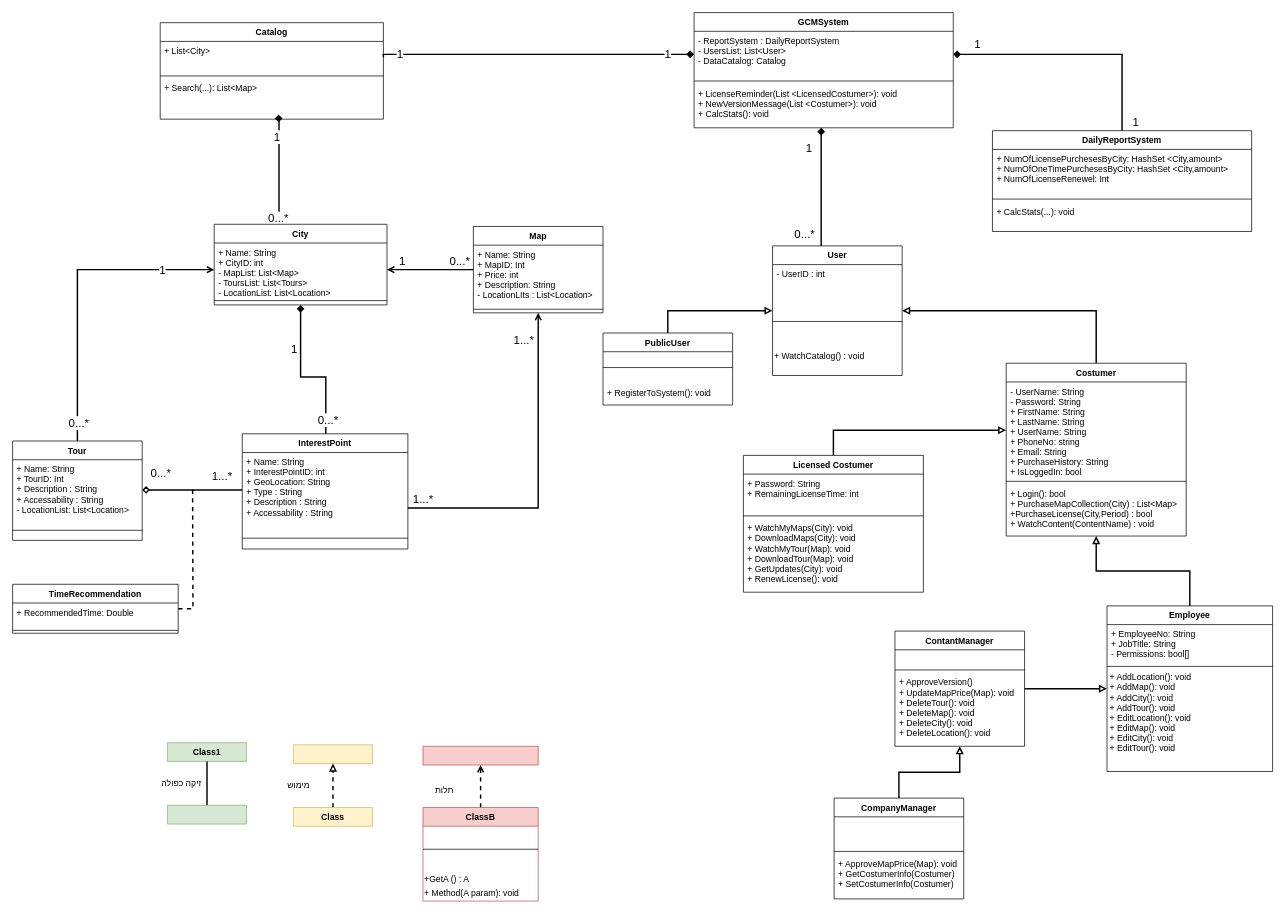
The diagram is 1285 pixels wide and 914 high, and some of its shapes have lost their labels. Here are the shapes that lost their labels. From the top down, the centre of each, then its label:
point 333,754: Interface
point 480,755: ClassA
point 207,814: Class2
